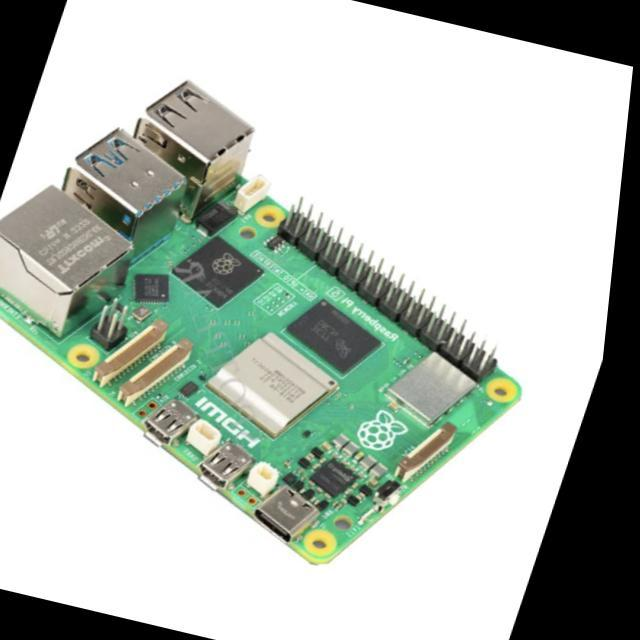Raspberry-Pi-5: (1, 83, 522, 564)
